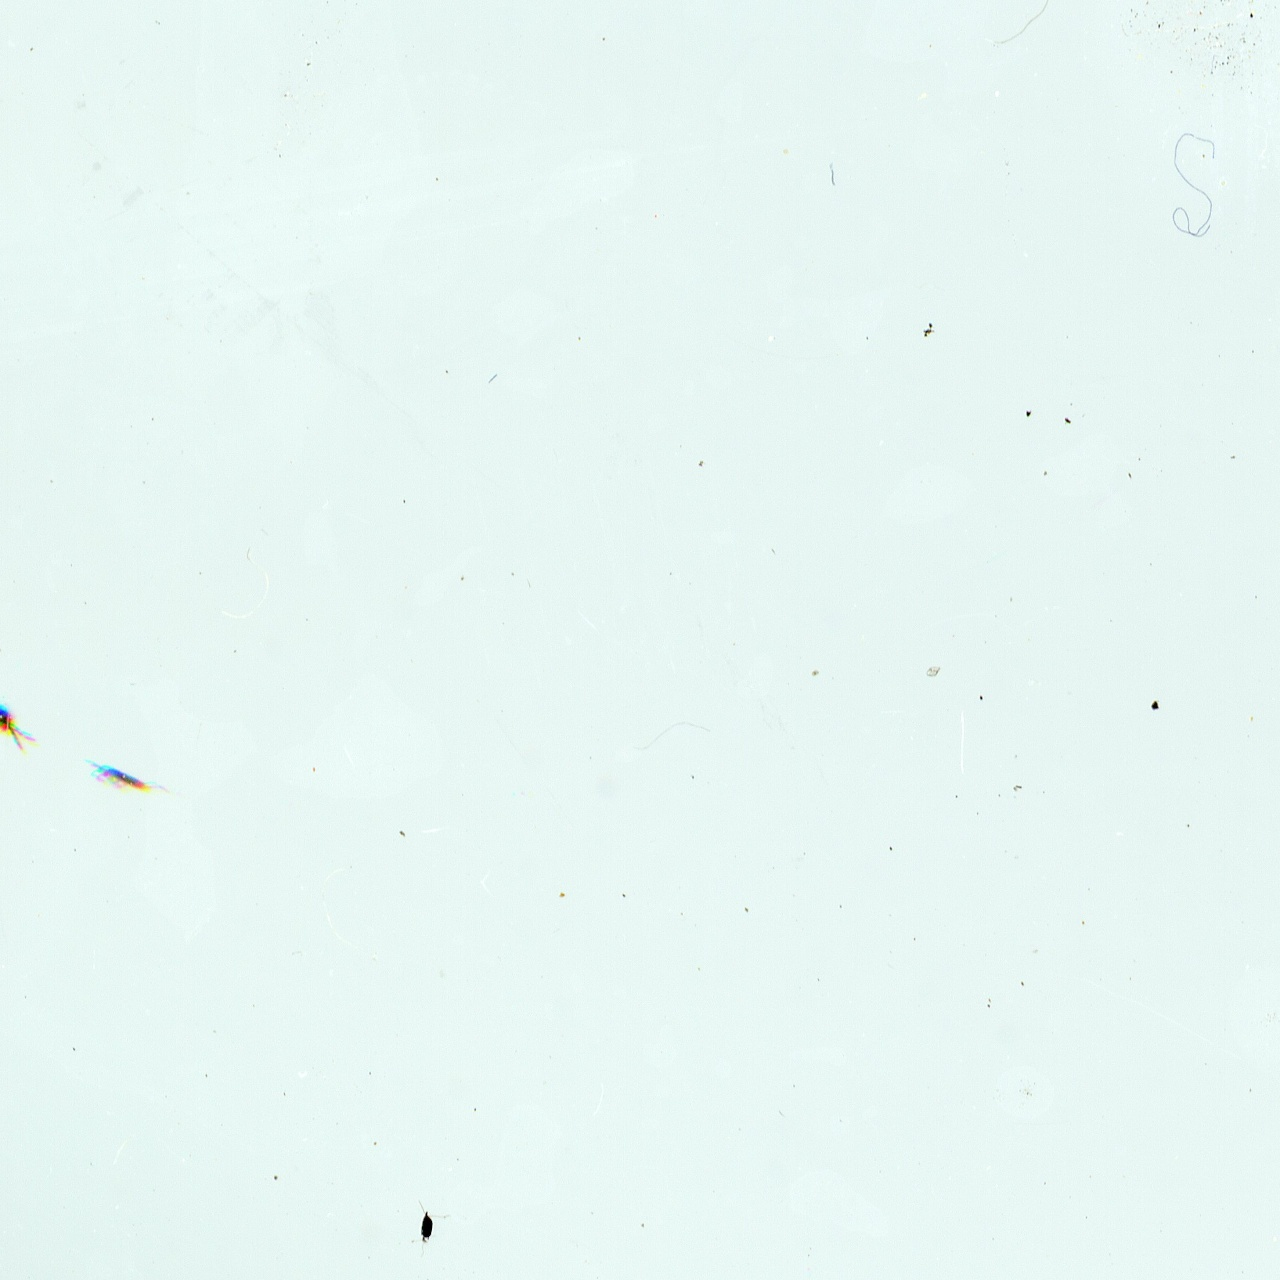arthropod: (81, 755, 175, 796), (0, 669, 37, 753)
